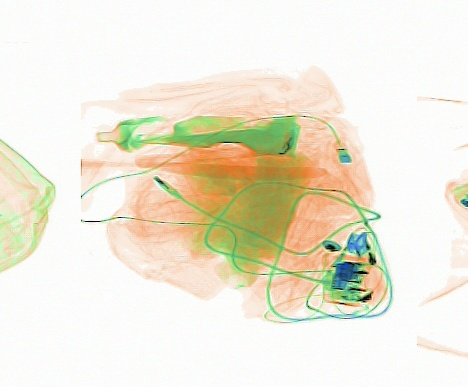lighter: (345, 229, 385, 297)
